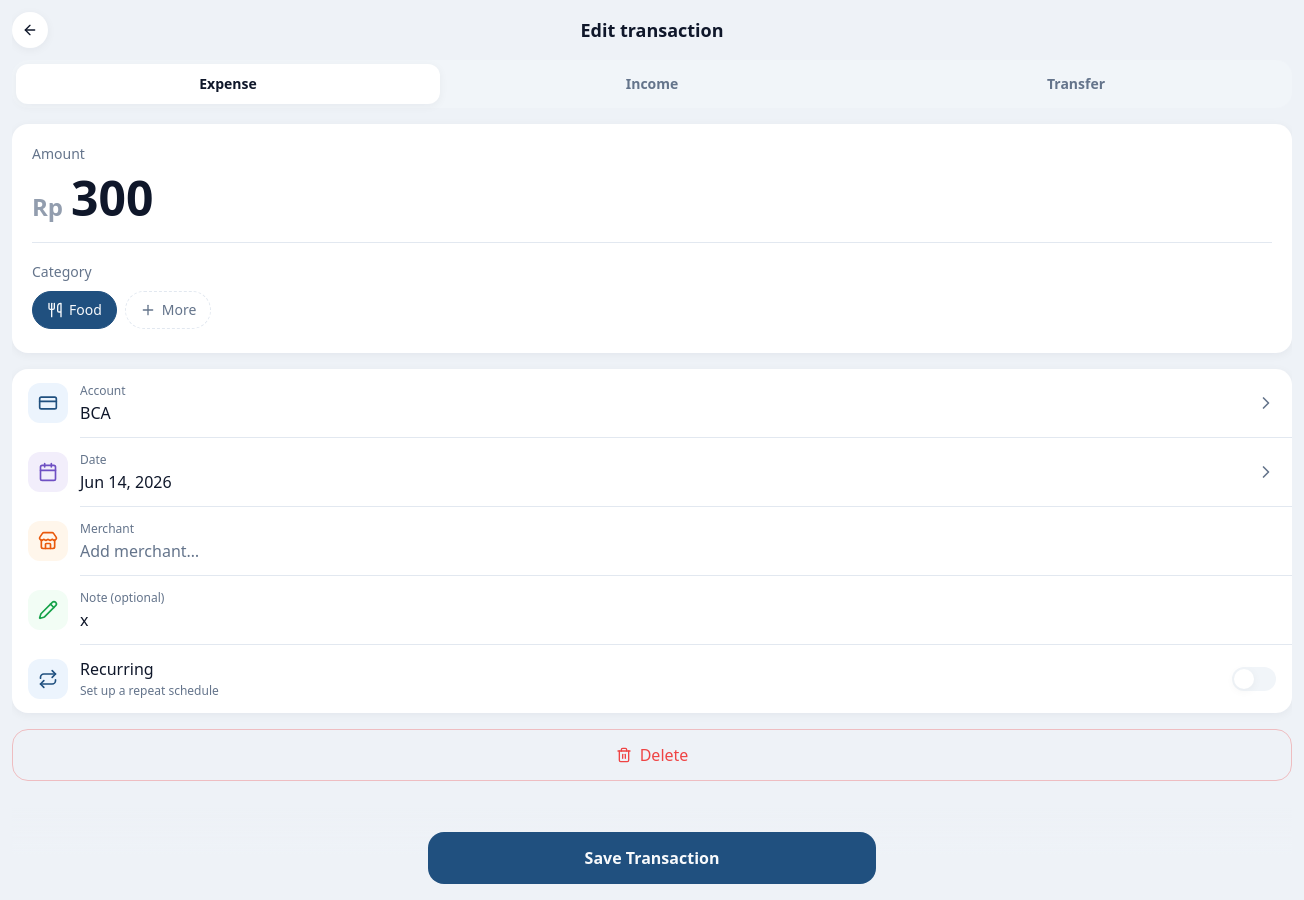
Scenario: edit seeds fields and updates via {id,data}
Expected: the text "300" is shown, [71,170,153,226]
Click the button "Save Transaction": (652, 858) [428,832,876,884]
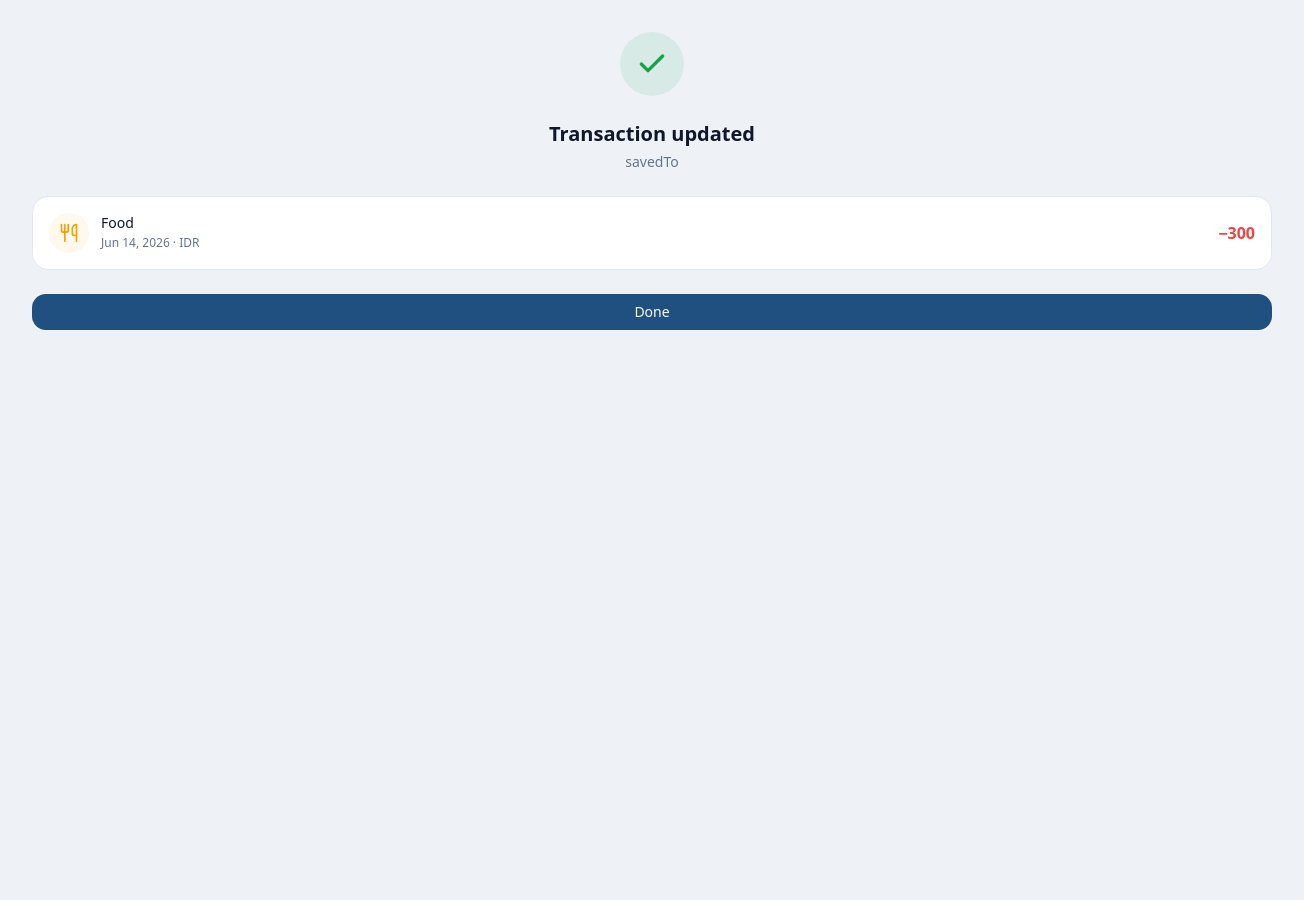
Result: the heading "Transaction updated" is shown at [549,120,755,148]
